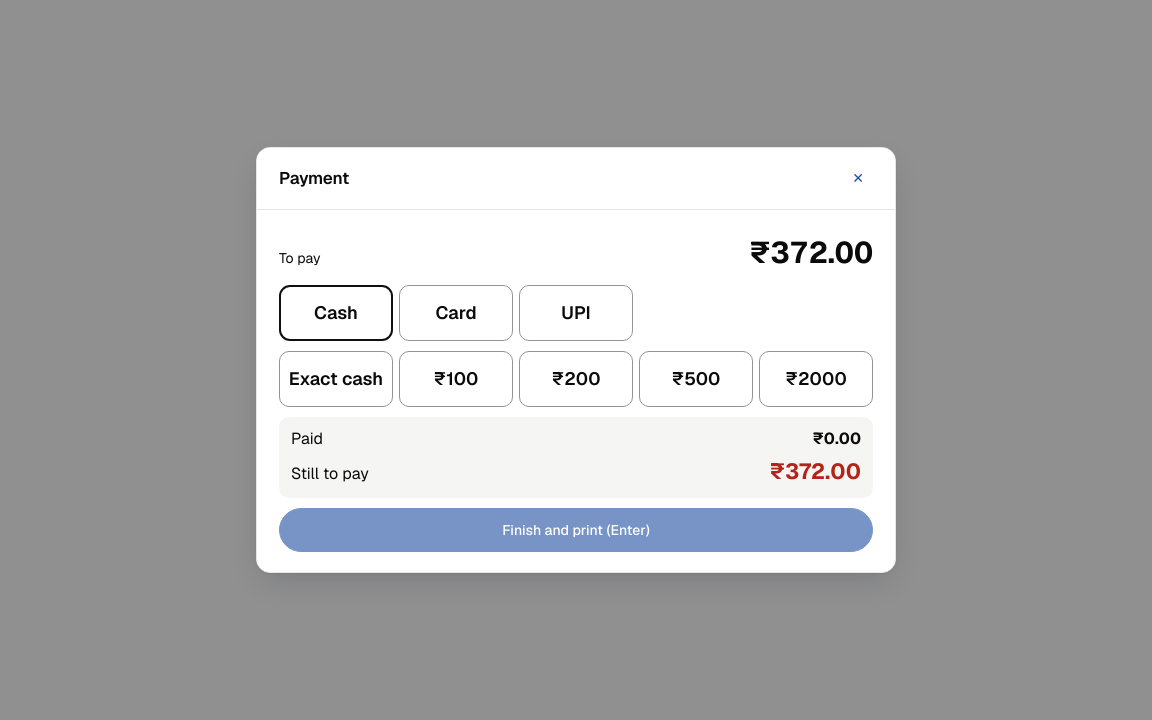
Test: pay screen › asks for the card's approval code before finishing
Click the button "Card": (456, 313) x1=399 y1=285 x2=513 y2=341
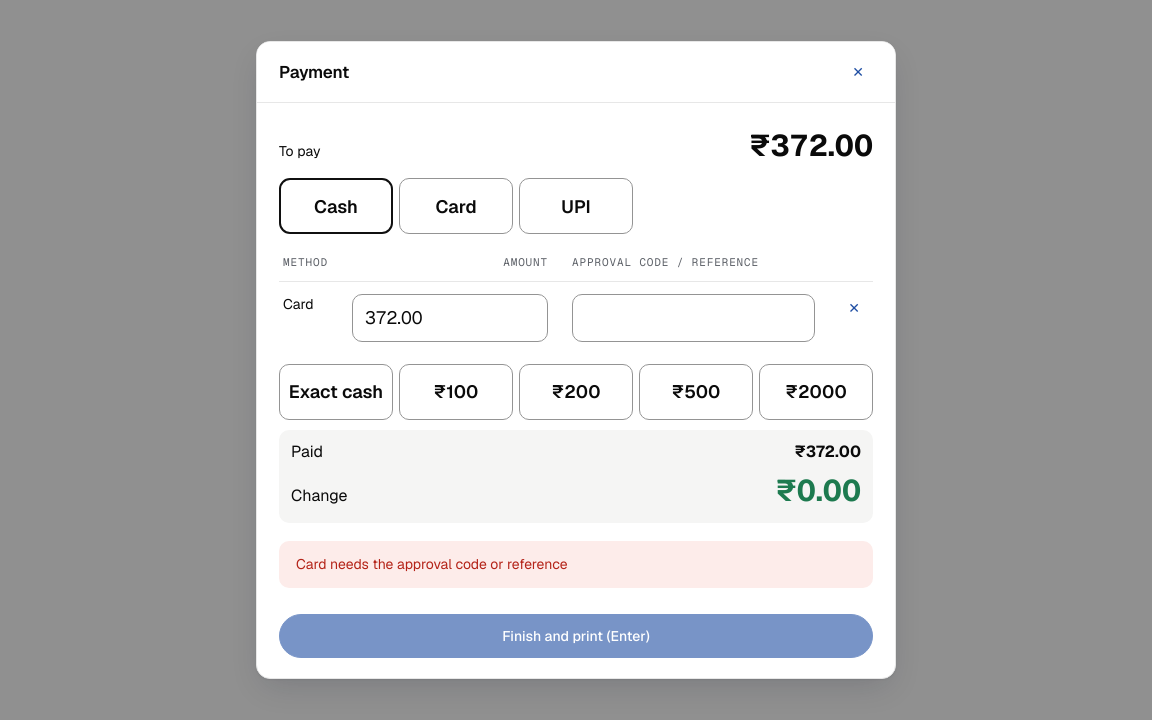
Check: the button "Finish and print (Enter)" is disabled, box x1=279 y1=614 x2=873 y2=658
Check: the message reads "Card needs the approval code or reference", box x1=296 y1=555 x2=568 y2=573
In the field named "Card reference": (694, 318) x1=572 y1=294 x2=815 y2=342, type "482913"
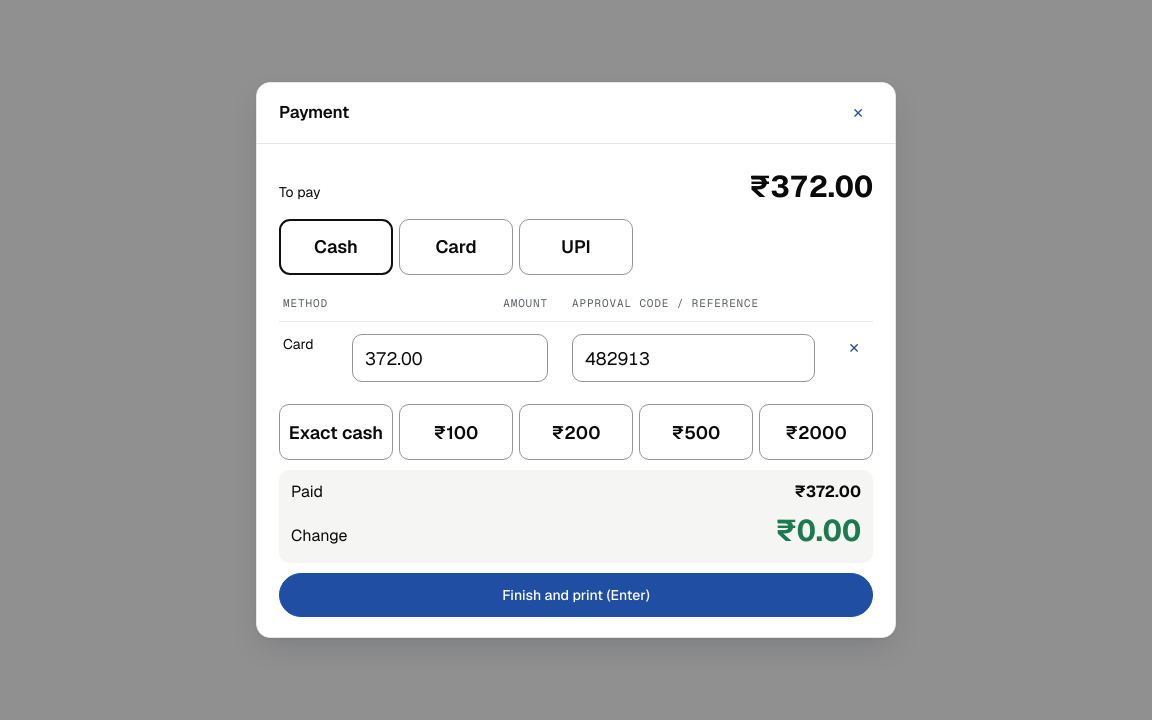
Check: the button "Finish and print (Enter)" is enabled, box x1=279 y1=573 x2=873 y2=617
